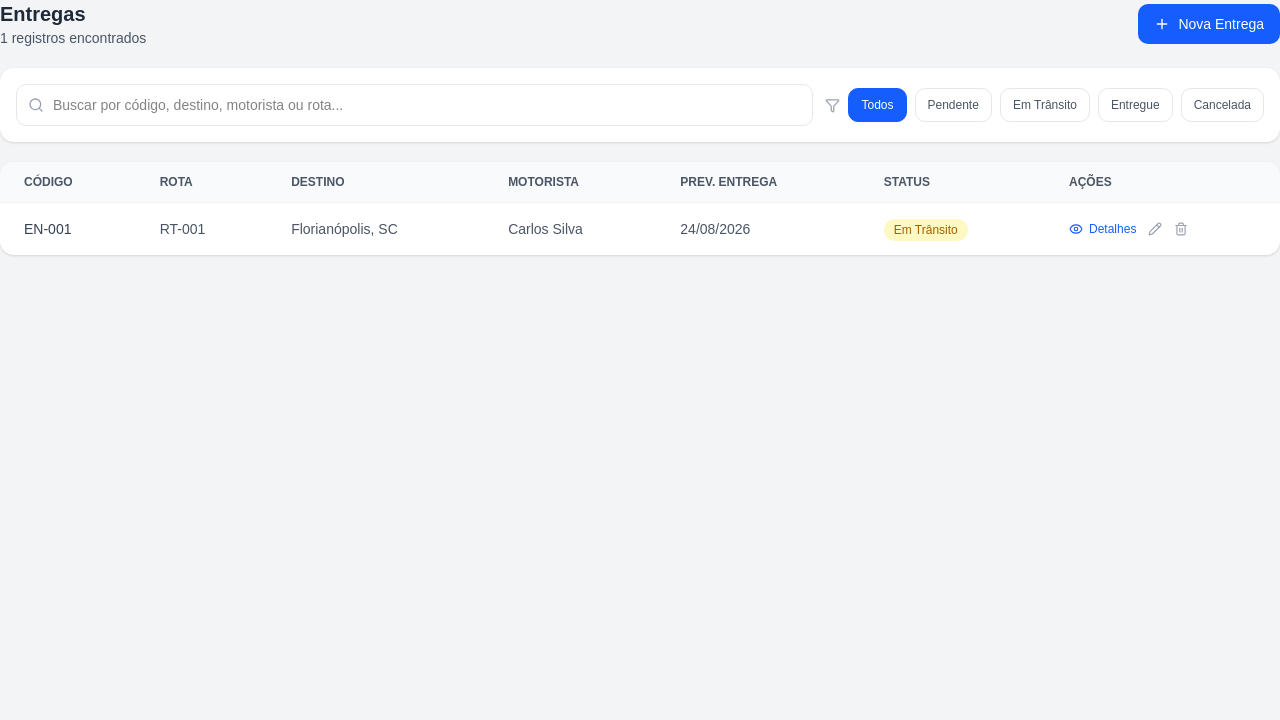
it: Entregas › exclui uma entrega com sucesso
Expected: the text "EN-001" is shown, [0,202,136,255]
Click the button named "Excluir EN-001" at {"x": 1181, "y": 229}, box [1174,222,1188,236]
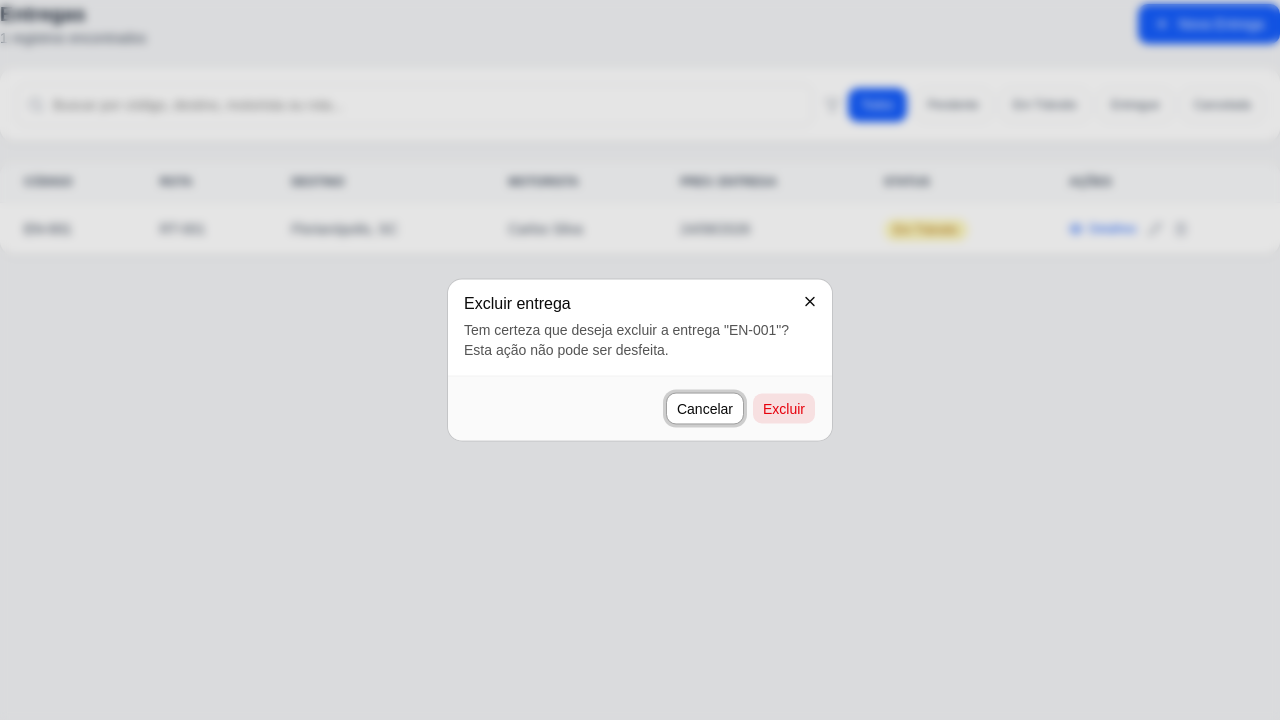
Click the button "Excluir" at {"x": 784, "y": 408}, box [752,392,816,424]
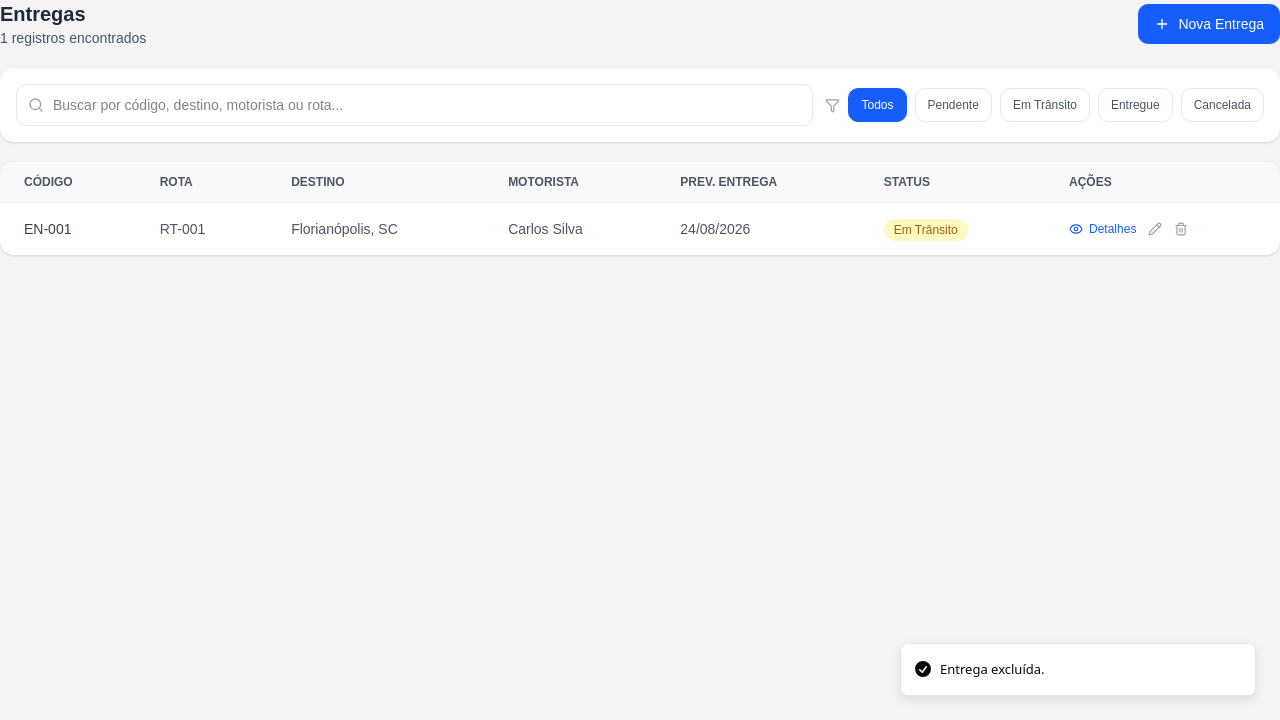
Now the text "Entrega excluída." is shown, box [940,660,1044,679]
